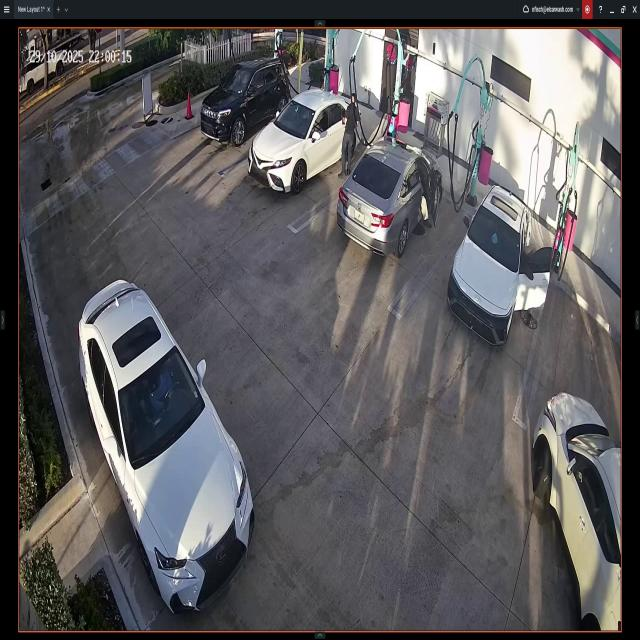Car: (74, 272, 253, 614), (532, 394, 620, 632), (454, 190, 554, 353), (339, 135, 442, 260), (249, 89, 361, 185), (202, 59, 287, 144)
